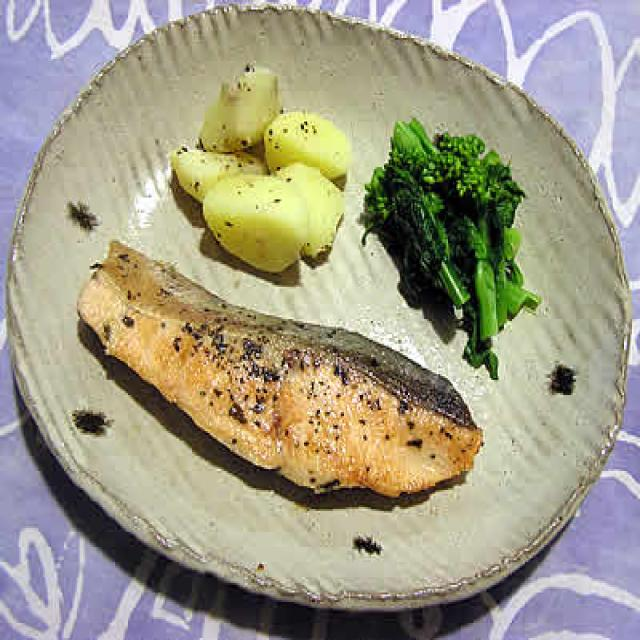熟制海鲜: (70, 226, 502, 532)
